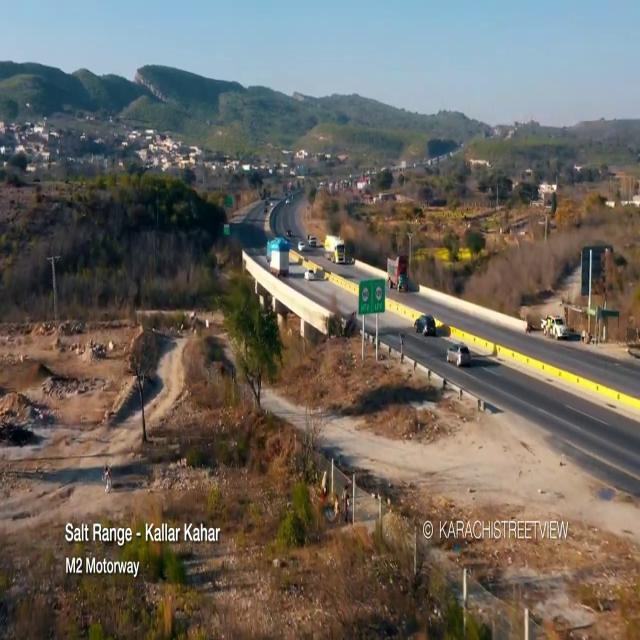car: (412, 310, 440, 338), (445, 343, 472, 368), (303, 265, 317, 284)
truck: (385, 250, 415, 300), (266, 236, 293, 281), (325, 235, 350, 267)
